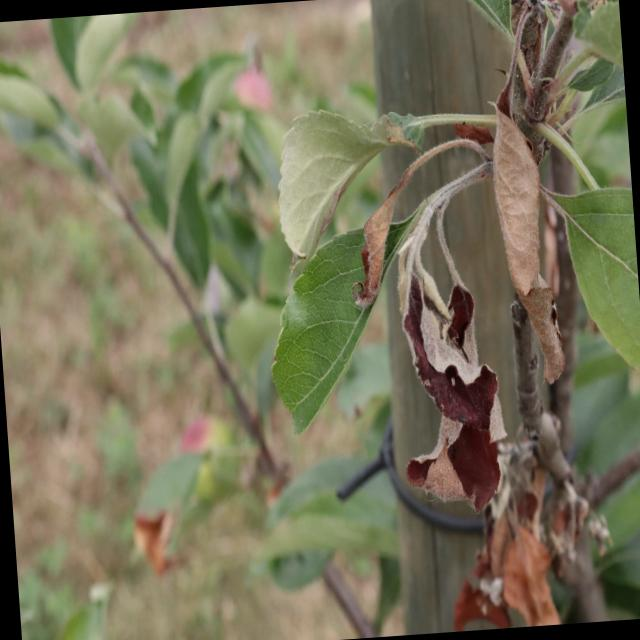-FireBlight-: (331, 92, 603, 638)
